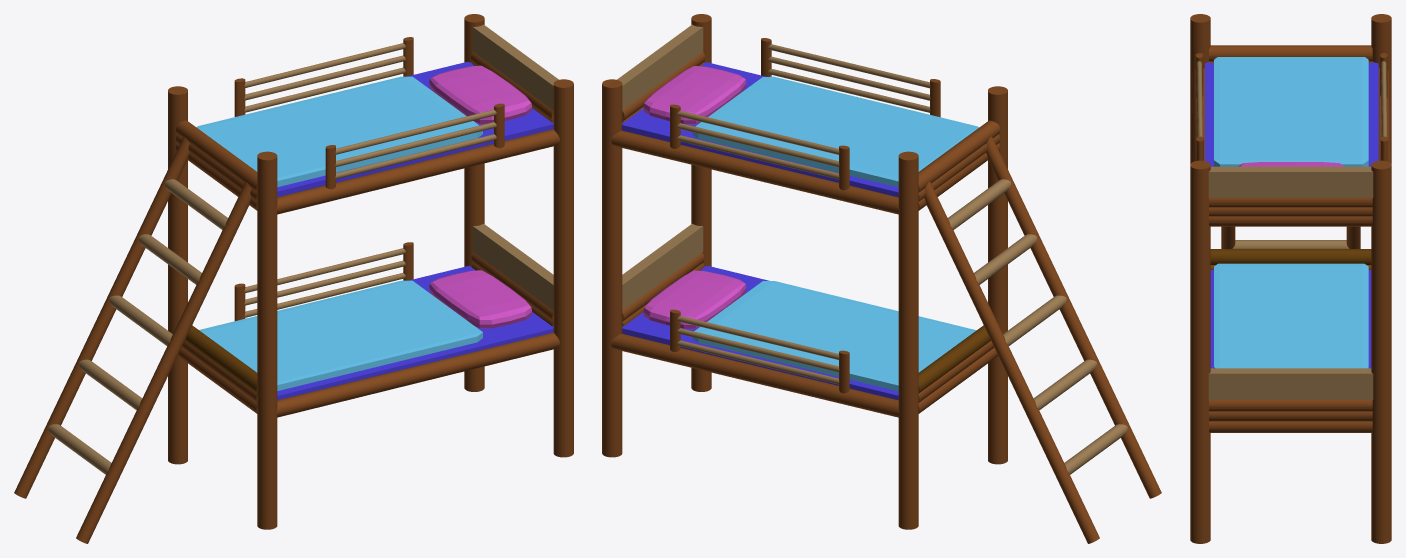
Rendered from bunk-bed.glb.
The picture shows the model from 3 angles, left to right: view 1: azimuth 30°, elevation 25°; view 2: azimuth 150°, elevation 25°; view 3: azimuth 270°, elevation 25°; orthographic projection.
Visible parts, largest first — view 1: Object_51, Object_50, Object_3, Object_4, Object_23, Object_2, Object_8, Object_29, Object_20, Object_52, Object_38, Object_53 (+25 smaller); view 2: Object_50, Object_51, Object_2, Object_5, Object_29, Object_3, Object_22, Object_21, Object_23, Object_53, Object_52, Object_15 (+25 smaller); view 3: Object_50, Object_51, Object_5, Object_4, Object_15, Object_16, Object_11, Object_39, Object_24, Object_12, Object_14, Object_13 (+14 smaller).
Part boxes in pixels (box(x1,y1,x2,y2)): Object_51: box(199, 280, 482, 390); Object_50: box(196, 76, 482, 187); Object_3: box(257, 151, 277, 529); Object_4: box(553, 79, 573, 457); Object_23: box(76, 182, 251, 543); Object_2: box(168, 86, 187, 464); Object_8: box(276, 332, 559, 417); Object_29: box(14, 136, 189, 498); Object_20: box(276, 129, 559, 214); Object_52: box(429, 270, 531, 328); Object_38: box(277, 266, 553, 400); Object_53: box(429, 65, 531, 124); Object_50: box(692, 76, 978, 187); Object_51: box(692, 281, 976, 391); Object_2: box(898, 151, 918, 529); Object_5: box(602, 79, 622, 457); Object_29: box(924, 182, 1099, 543); Object_3: box(988, 86, 1007, 464); Object_22: box(611, 333, 899, 417); Object_21: box(611, 130, 899, 214); Object_23: box(986, 136, 1161, 498); Object_53: box(643, 66, 746, 124); Object_52: box(643, 270, 746, 328); Object_15: box(622, 223, 703, 310); Object_50: box(1214, 57, 1368, 166); Object_51: box(1214, 263, 1368, 368); Object_5: box(1371, 160, 1391, 543); Object_4: box(1190, 160, 1210, 543); Object_15: box(1208, 368, 1373, 399); Object_16: box(1208, 166, 1373, 197); Object_11: box(1210, 249, 1371, 264); Object_39: box(1205, 62, 1378, 166); Object_24: box(1209, 45, 1372, 61); Object_12: box(1209, 421, 1372, 432); Object_14: box(1209, 400, 1372, 411); Object_13: box(1209, 411, 1372, 421).
Bounding box in the file's own units: 13.14 × 9.63 × 4.7.
52 materials, 1 textured.
